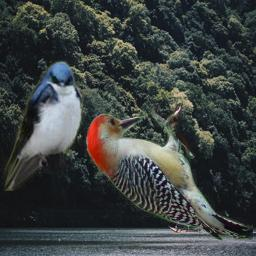Swallow: (2, 59, 84, 191)
Woodpecker: (84, 103, 253, 244)
